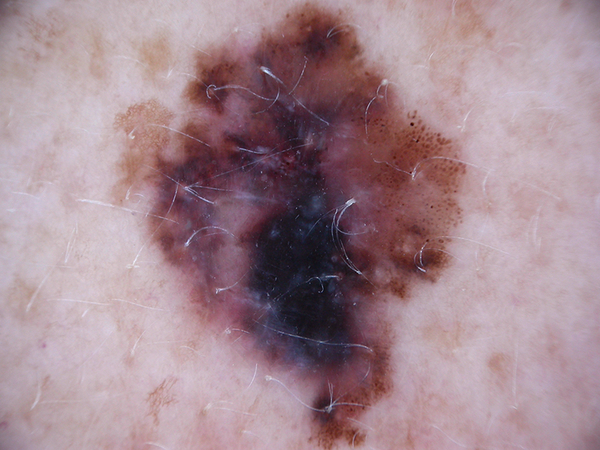Detected Lesion: (121, 3, 468, 450)
